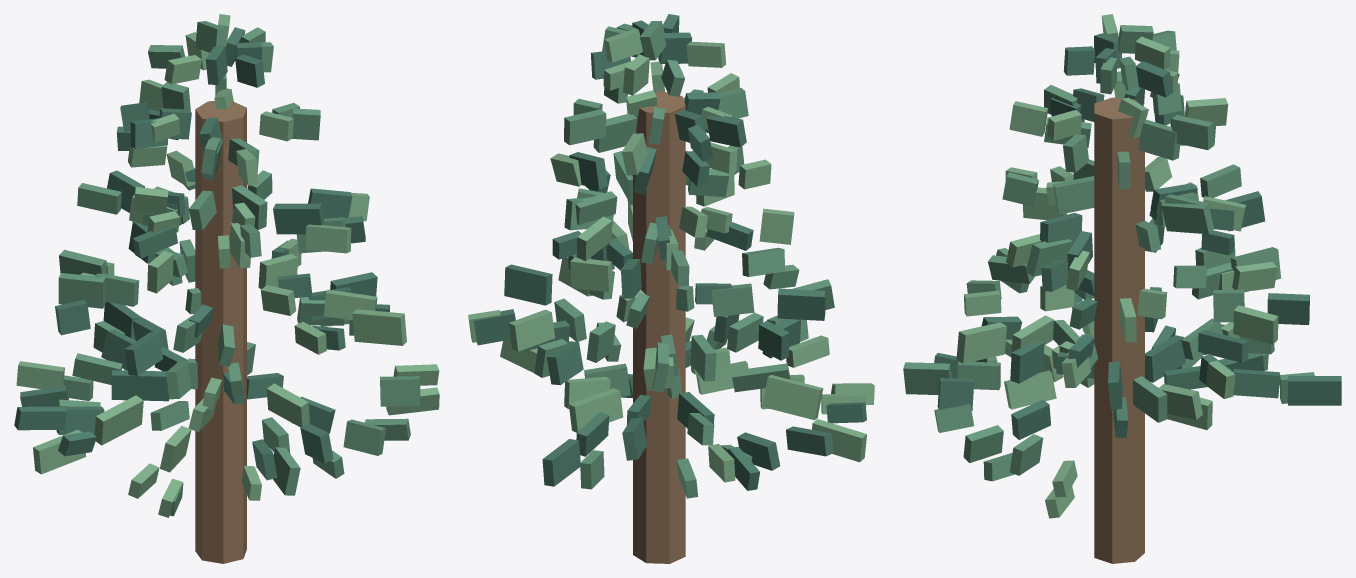
The model's file is granular_pine_tree.glb.
3 renders of one model, left to right at view 1: azimuth 30°, elevation 25°; view 2: azimuth 150°, elevation 25°; view 3: azimuth 270°, elevation 25°, orthographic. The views are drawn at different scales.
Visible parts, largest first — view 1: granular_pine_tree_root; view 2: granular_pine_tree_root; view 3: granular_pine_tree_root.
Boxes of the visible parts, x1,y1,x2,y2 form: granular_pine_tree_root: (14, 14, 439, 563); granular_pine_tree_root: (468, 14, 874, 563); granular_pine_tree_root: (903, 14, 1341, 563).
Size of the model in its own units: 4.95 by 6.5 by 4.91.
